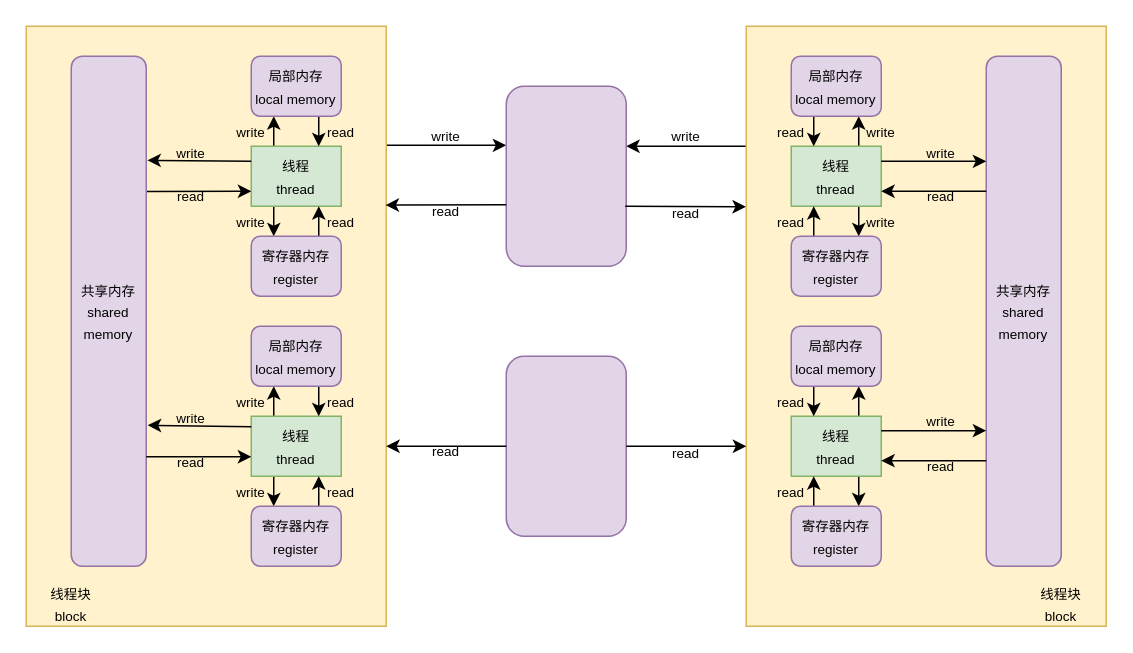
Image size: 1133x653. Some labels were removed from this diagram. Here are the shapes that lost their labels. From the top down, the box of each, then its label:
(505, 85, 626, 266): 全局内存 global memory
(505, 355, 626, 536): 常量内存 constant memory 纹理内存 texture memory
